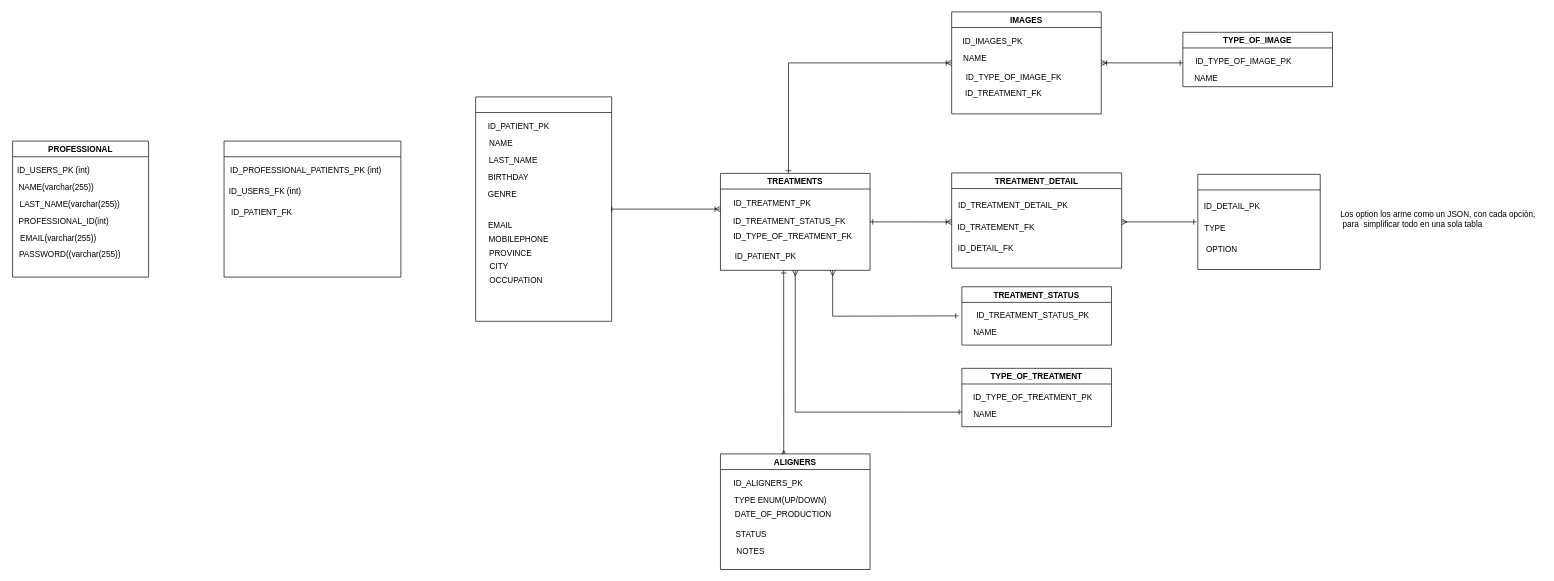
Some shapes in this 1554 by 581 pixel diagram are drawn without their labels. The shapes that lost their labels are listed below. From the top down, each one's box as (x1, y1, x2, y2) in pixels, then its label:
(223, 140, 401, 277): PROFESSIONALS_PATIENTS
(475, 96, 612, 321): PATIENTS
(1197, 174, 1320, 269): DETAILS
